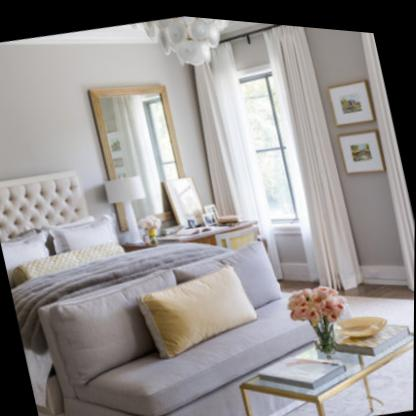Curtains: (271, 20, 364, 285)
Frame: (329, 75, 374, 120), (339, 125, 384, 168)
